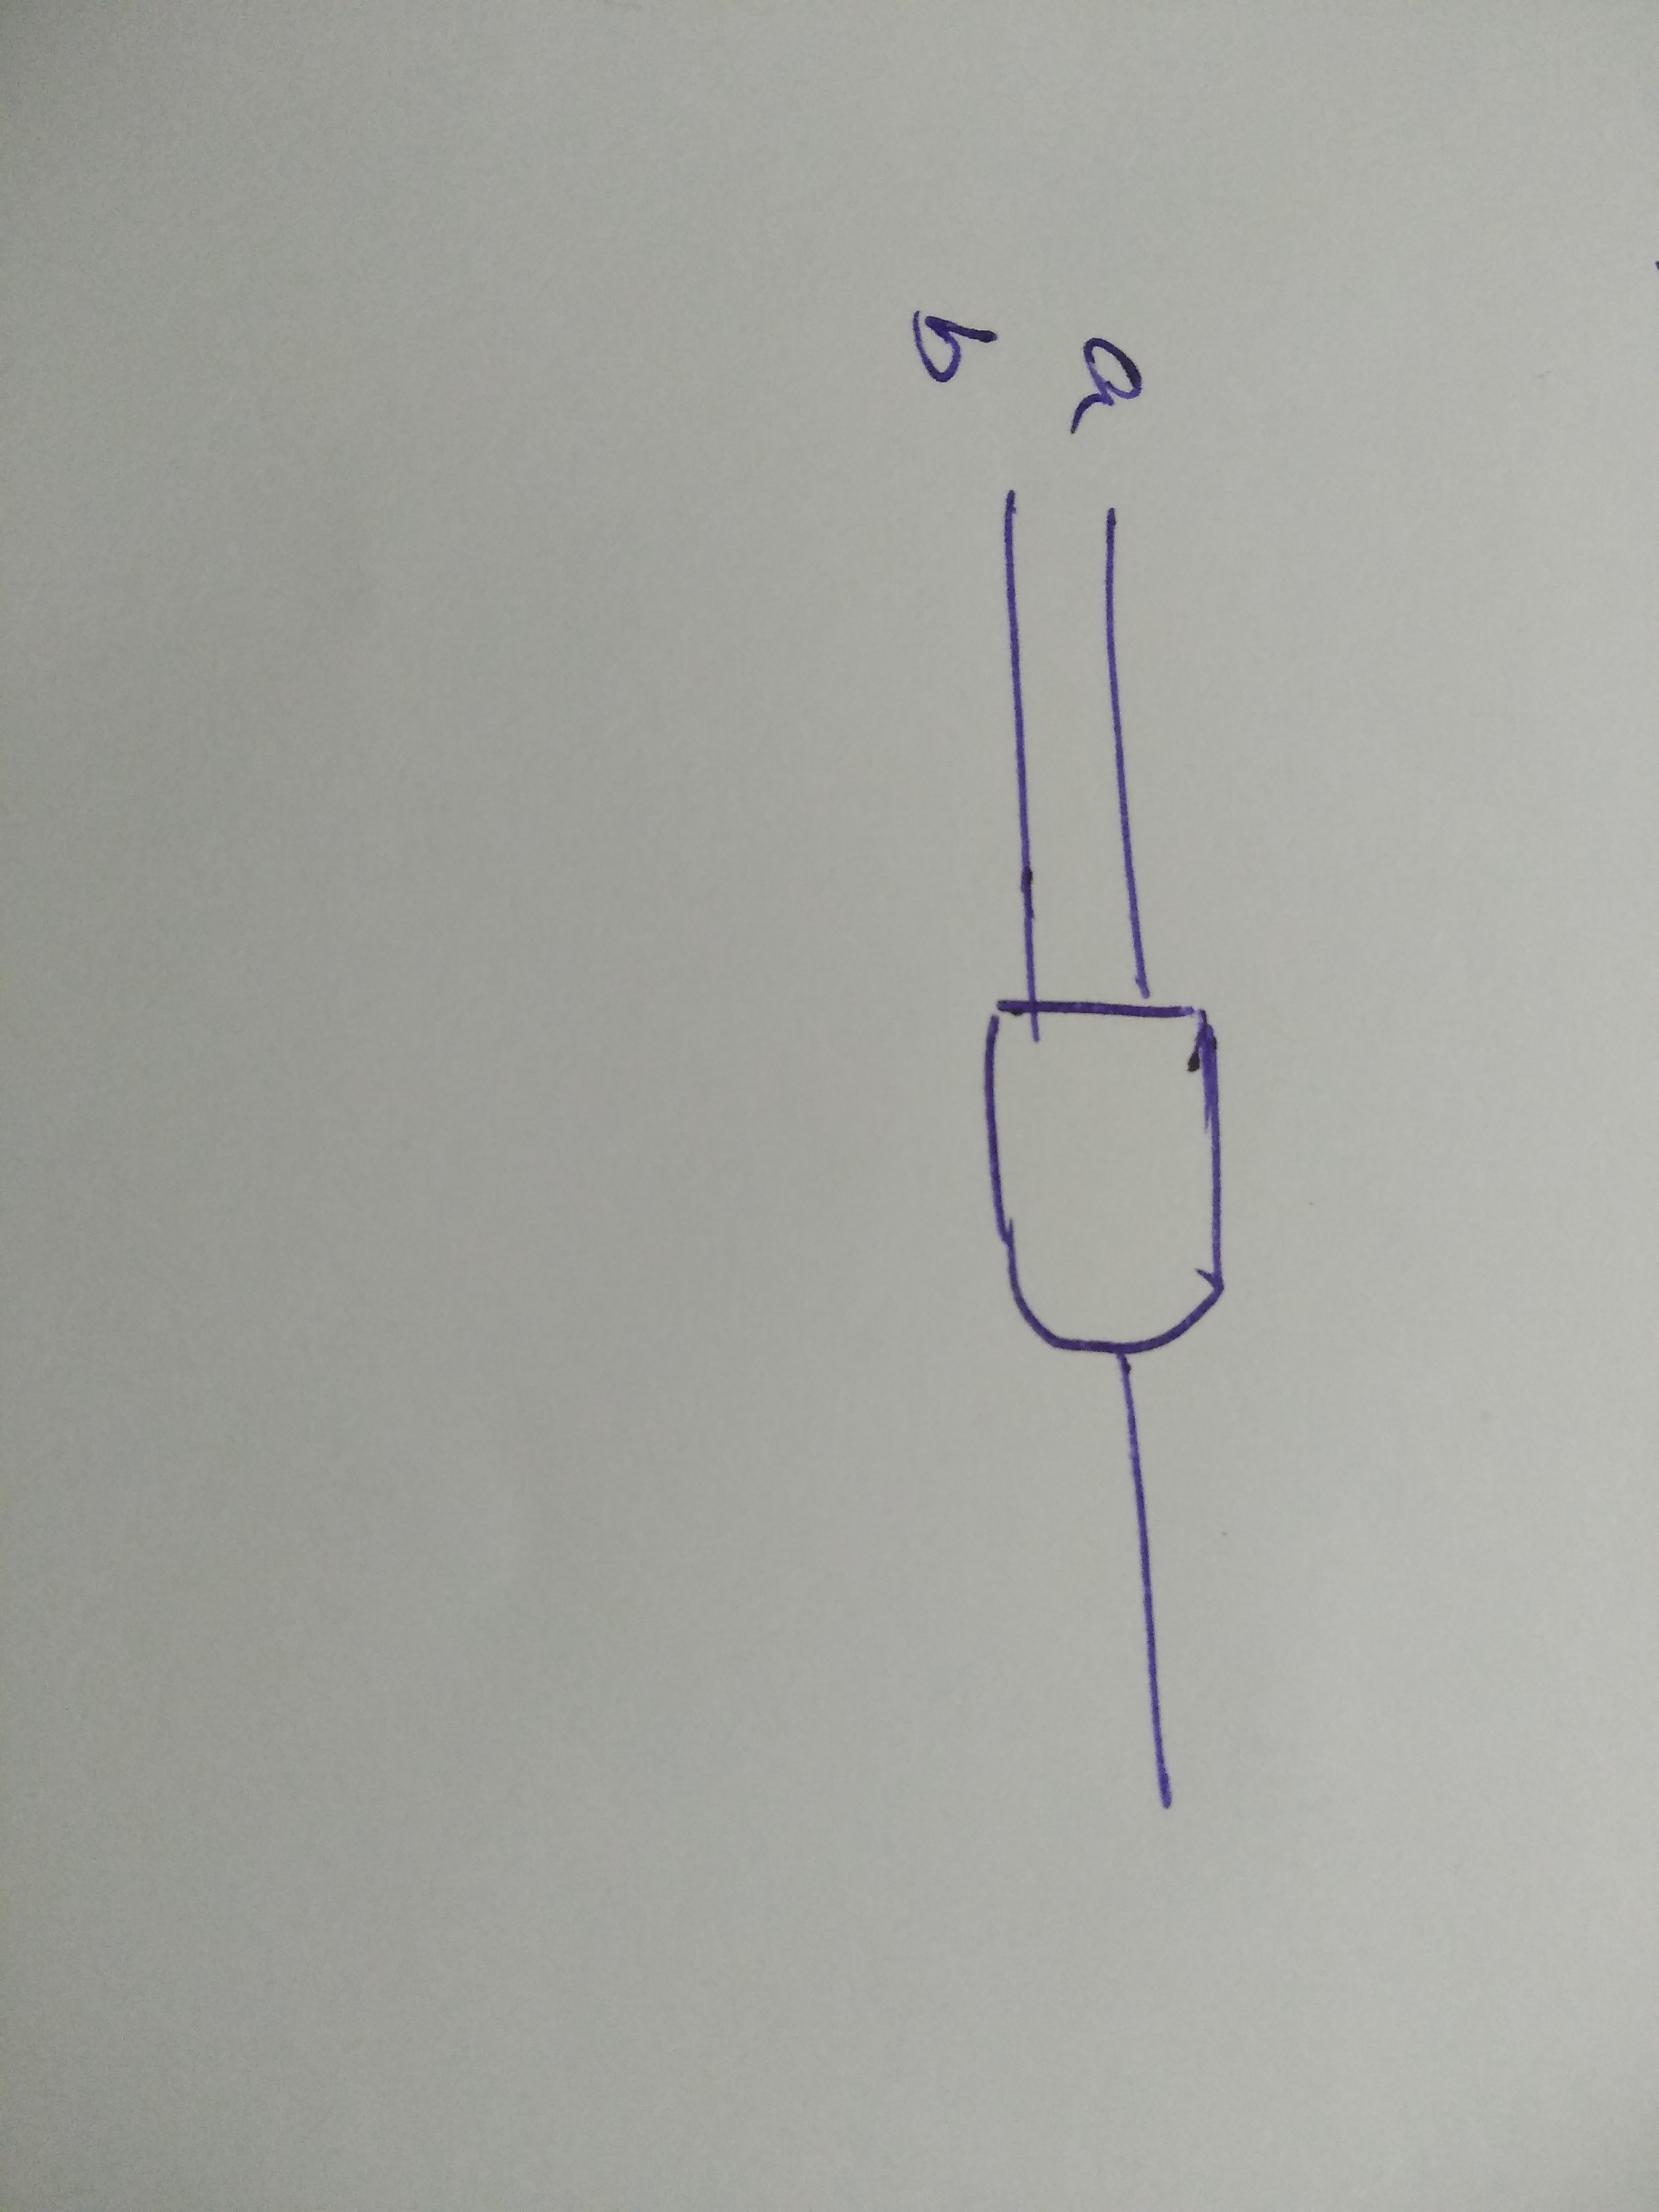and: (938, 925, 1321, 1420)
